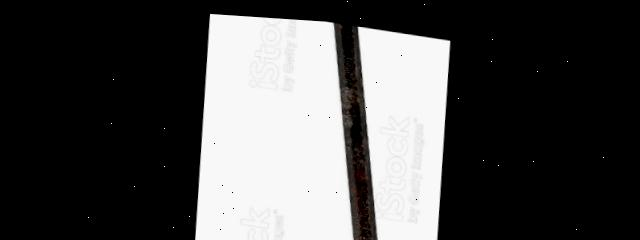crow bar: (335, 18, 378, 240)
